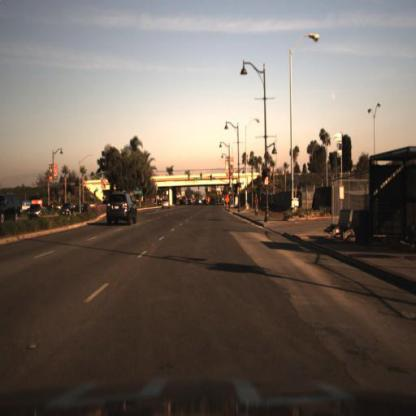biker: (255, 193, 260, 216)
car: (107, 191, 140, 231), (2, 193, 23, 224), (56, 203, 79, 217), (28, 205, 43, 221), (160, 196, 172, 212)
